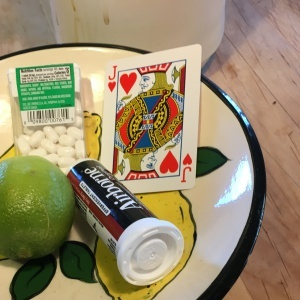card: (99, 43, 201, 192)
